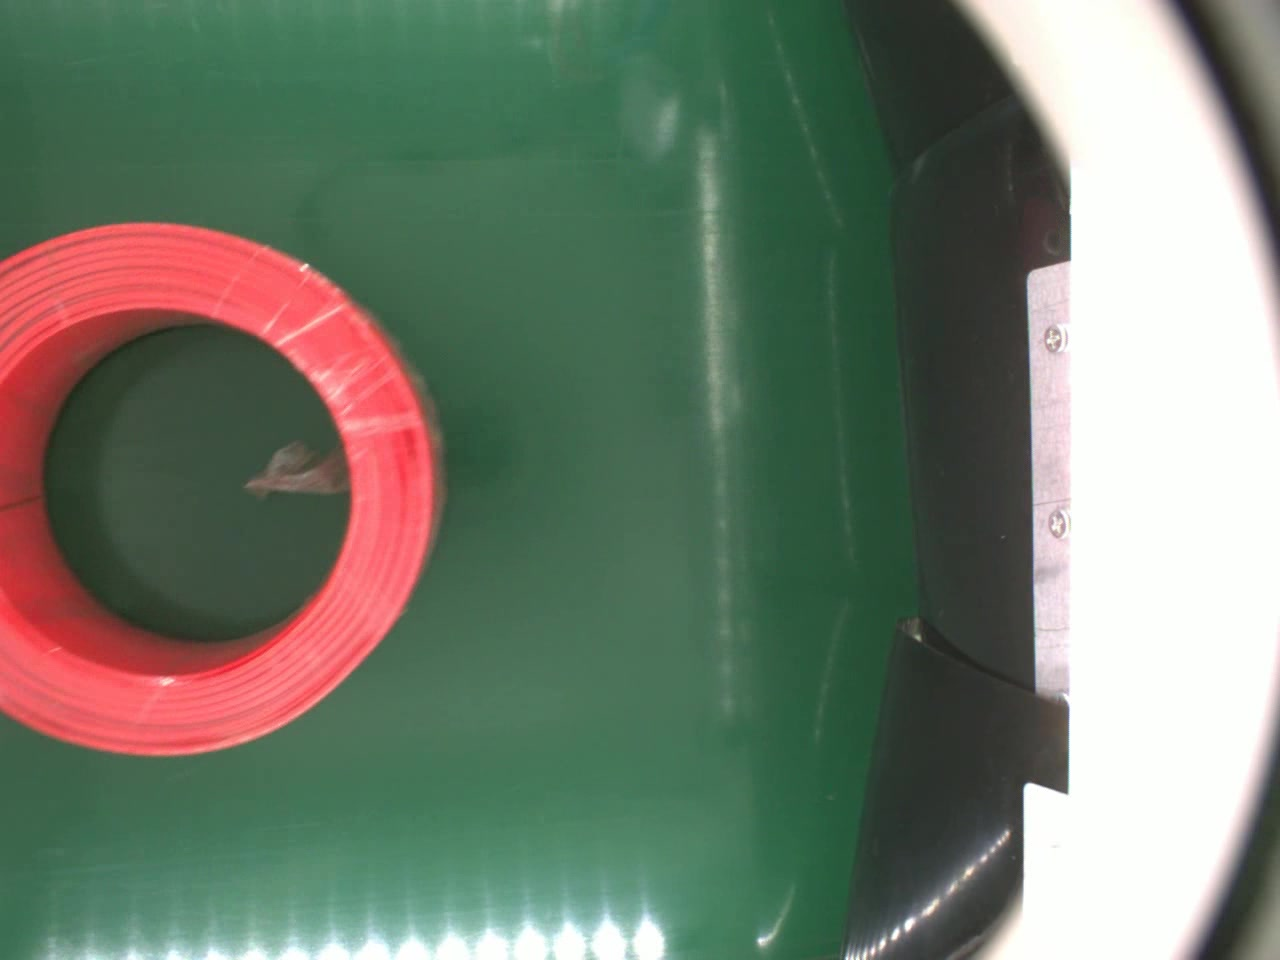red: (0, 218, 447, 756)
